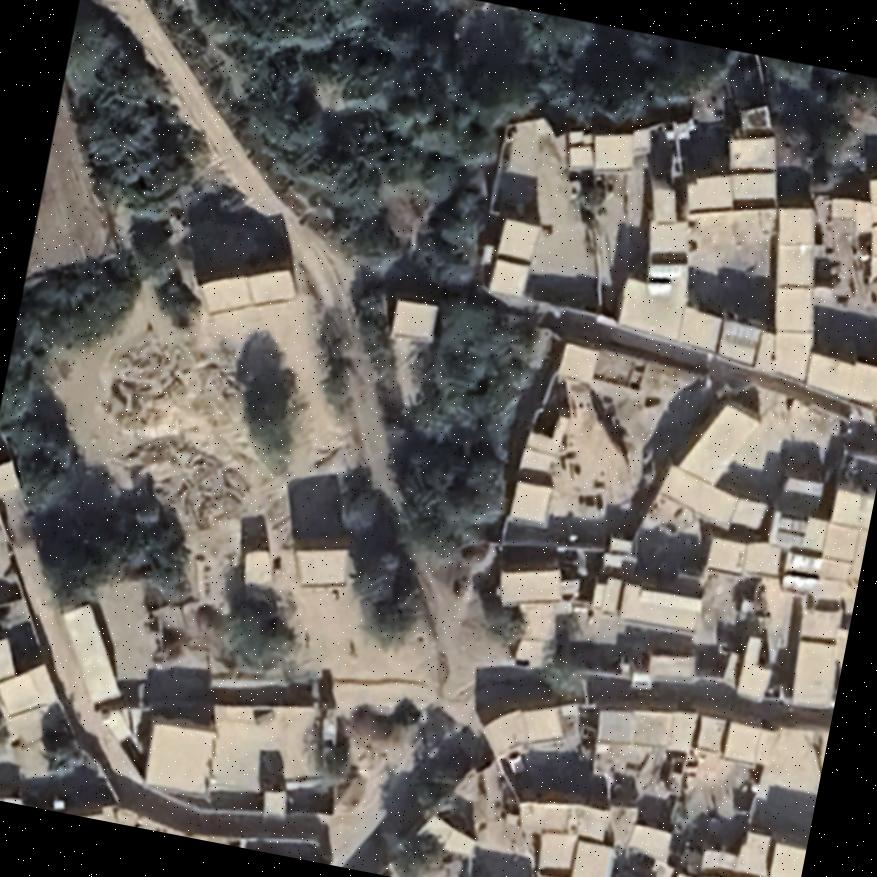Solarpanel: (776, 543, 826, 602), (717, 314, 766, 349), (643, 259, 689, 296)
